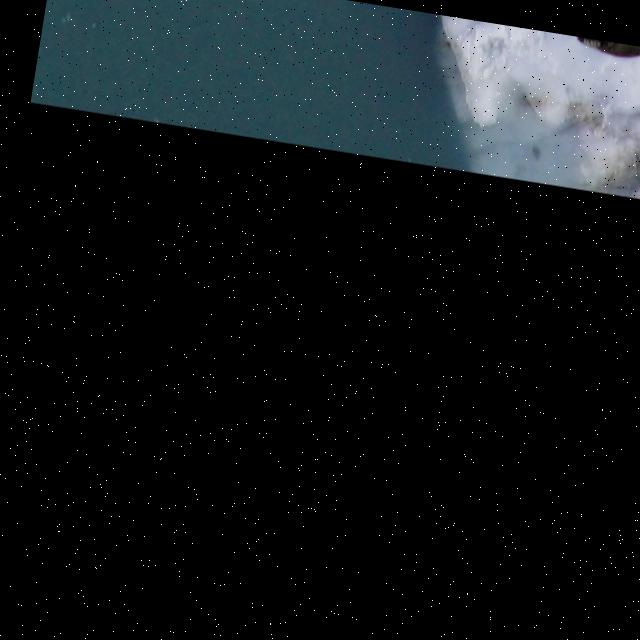seal: (570, 36, 640, 64)
